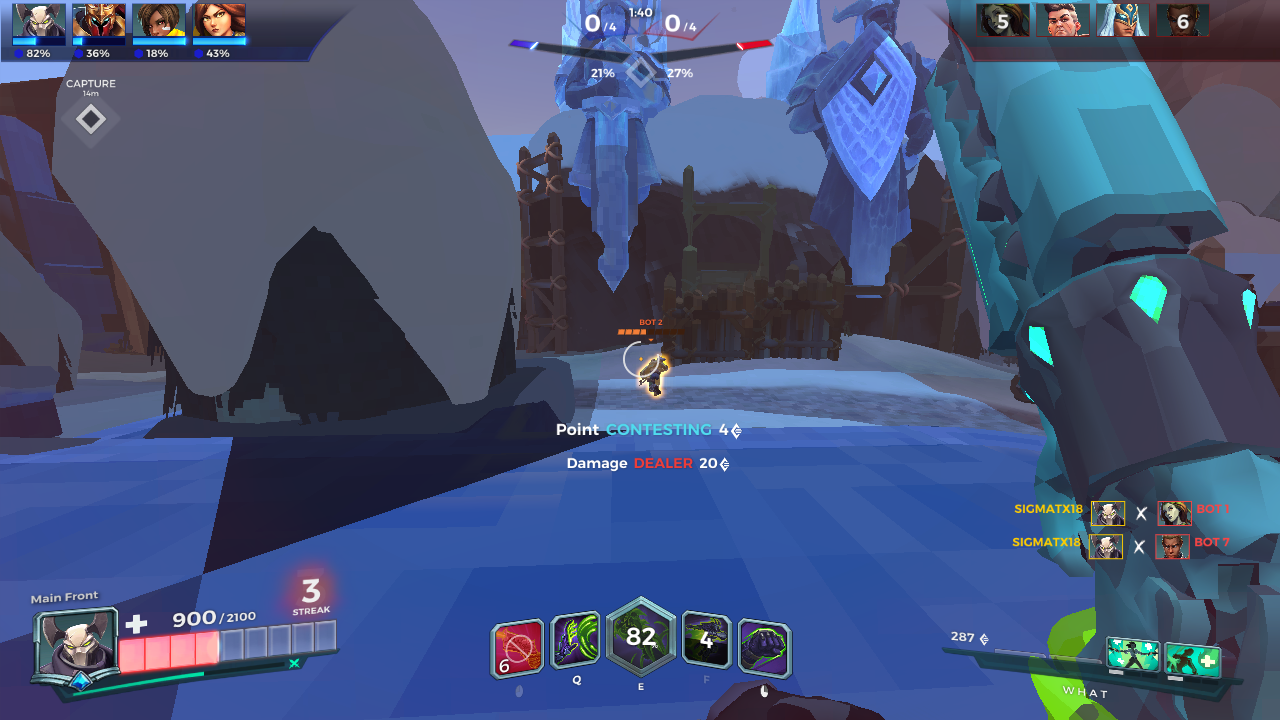model: (639, 351, 668, 398)
